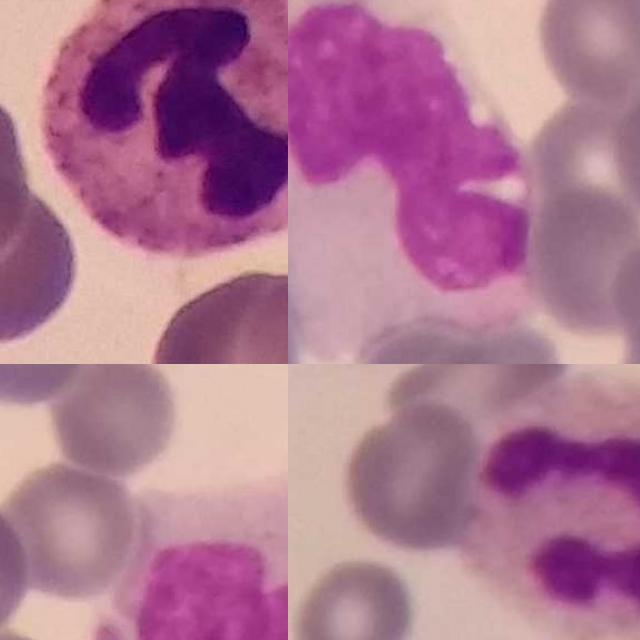Monocyte: (288, 0, 535, 357), (113, 458, 288, 640)
Neutrophil: (40, 0, 288, 259), (469, 376, 640, 640)
